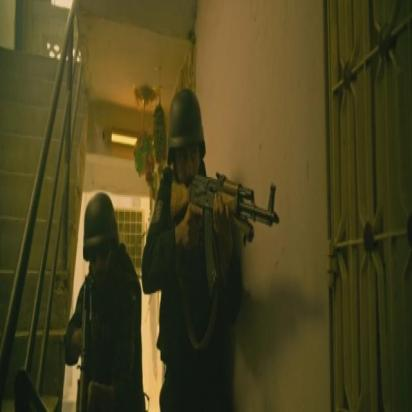Gun: (172, 173, 281, 292), (76, 271, 92, 412)
